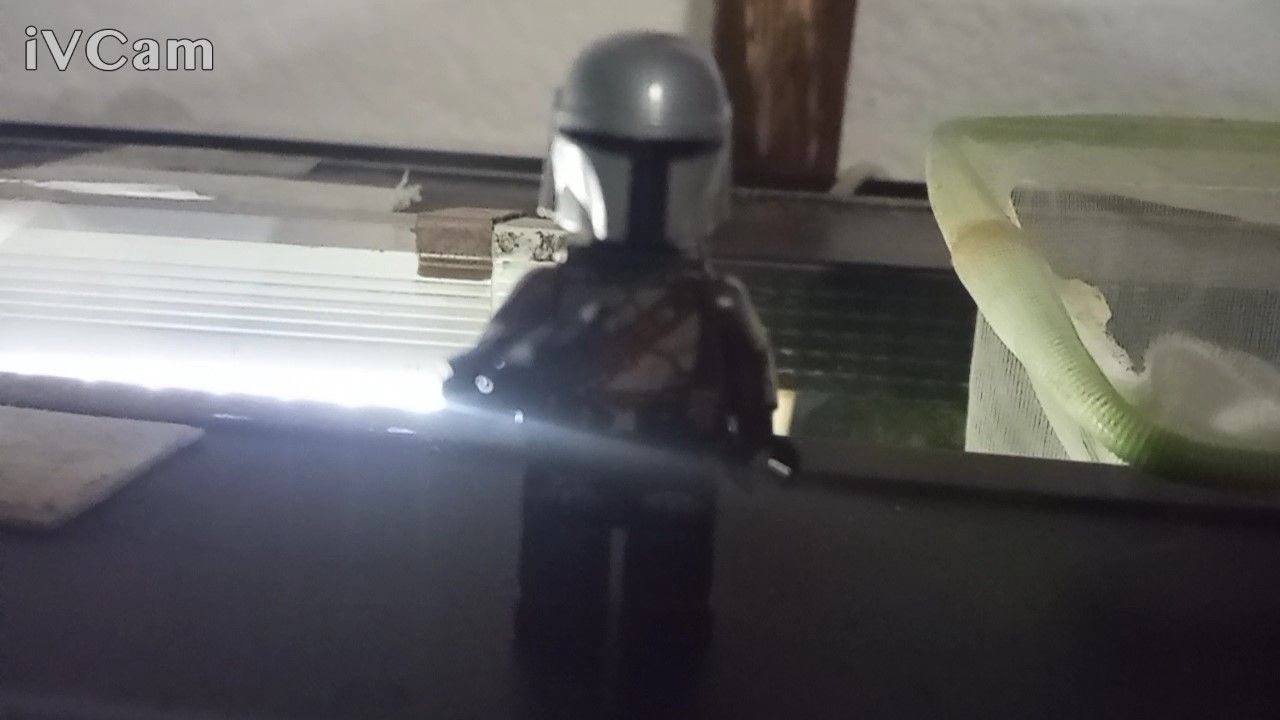mandalorian: (454, 25, 803, 691)
